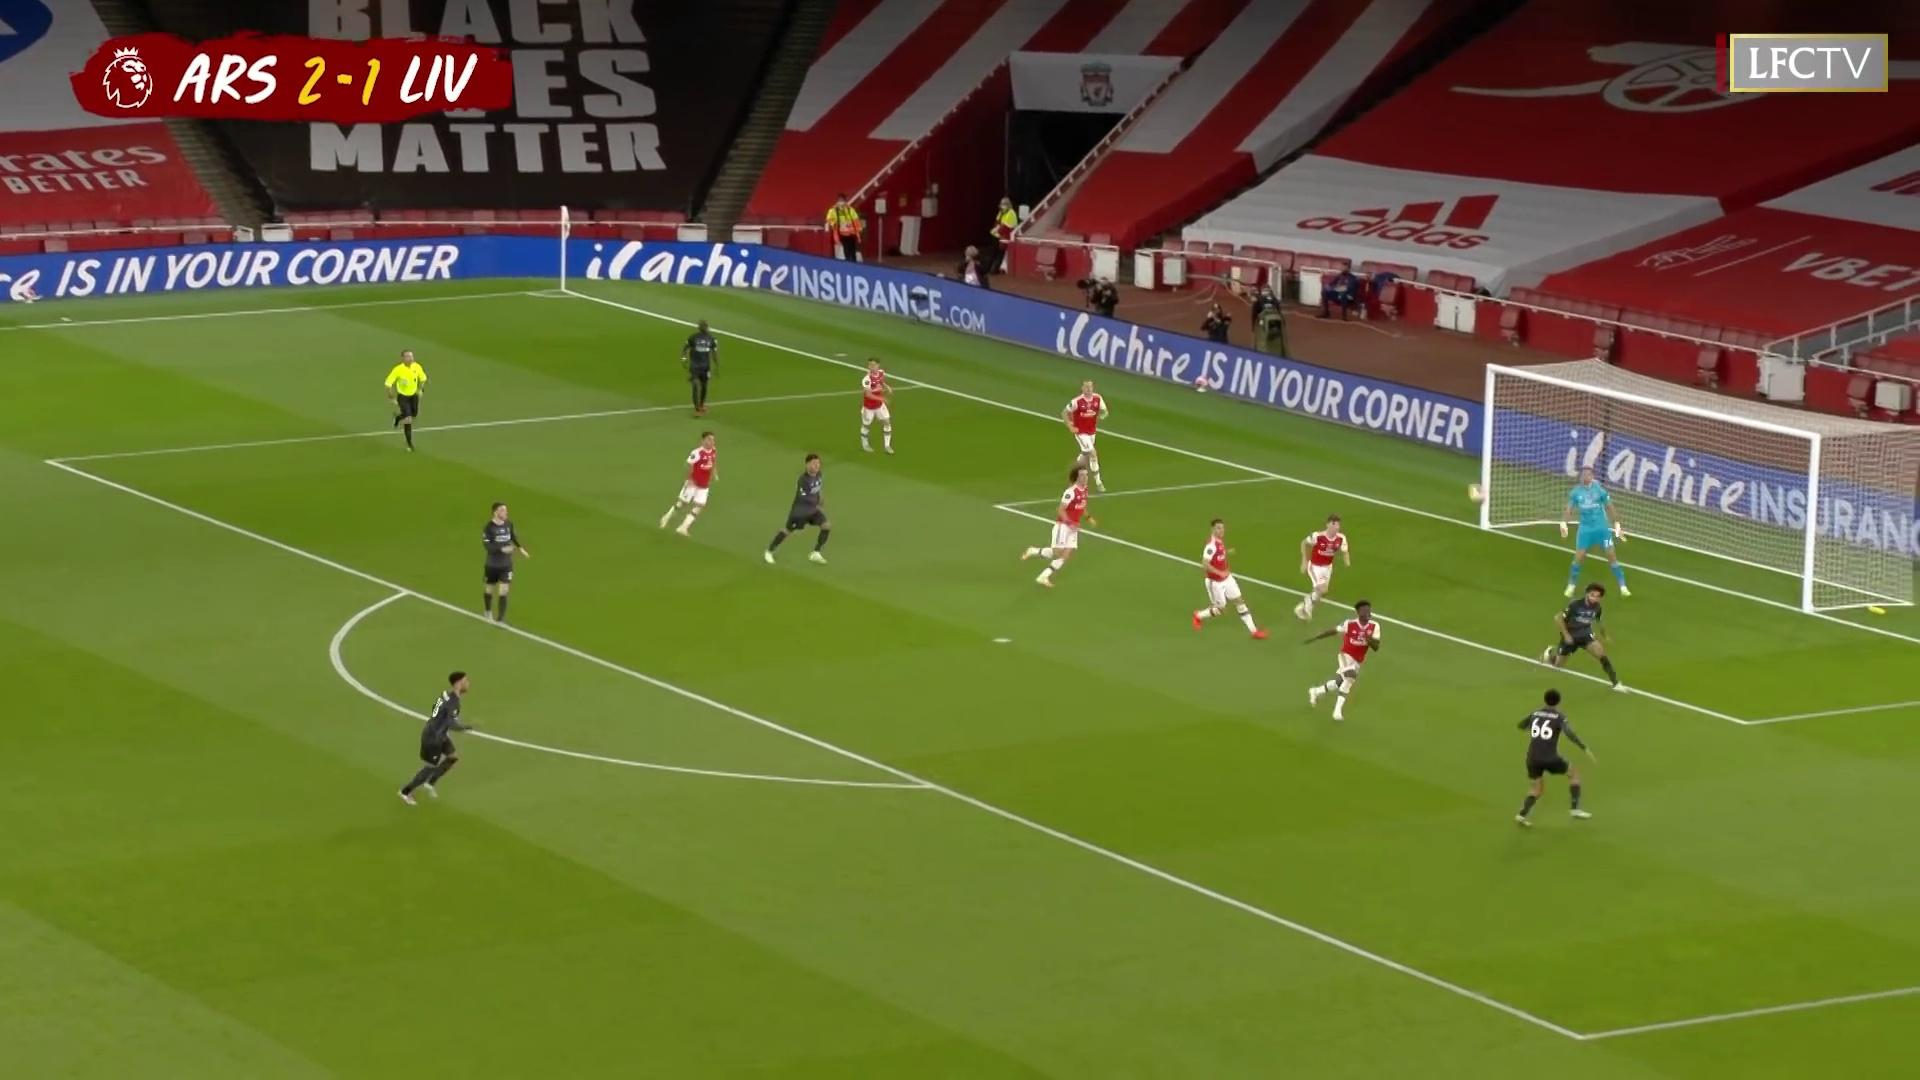ball: (21, 277, 44, 302), (1465, 484, 1490, 504)
